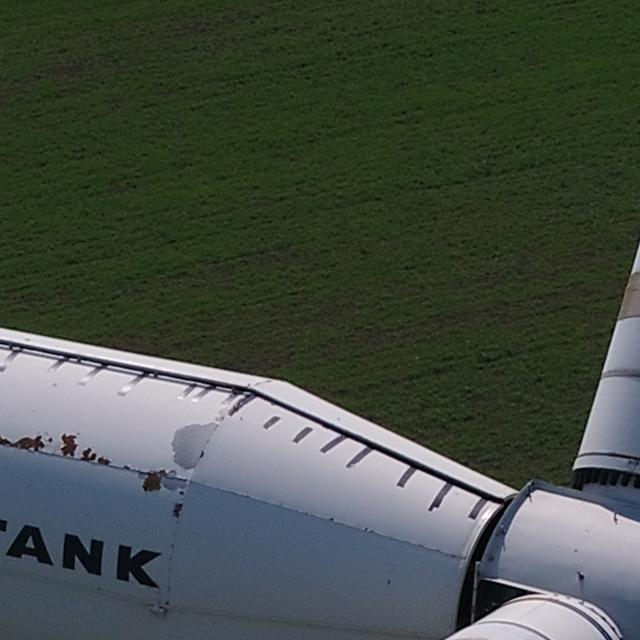damage: (169, 421, 221, 471), (1, 430, 50, 456), (140, 467, 165, 493), (59, 430, 80, 460), (81, 446, 98, 466), (95, 457, 114, 470), (171, 501, 184, 519)
